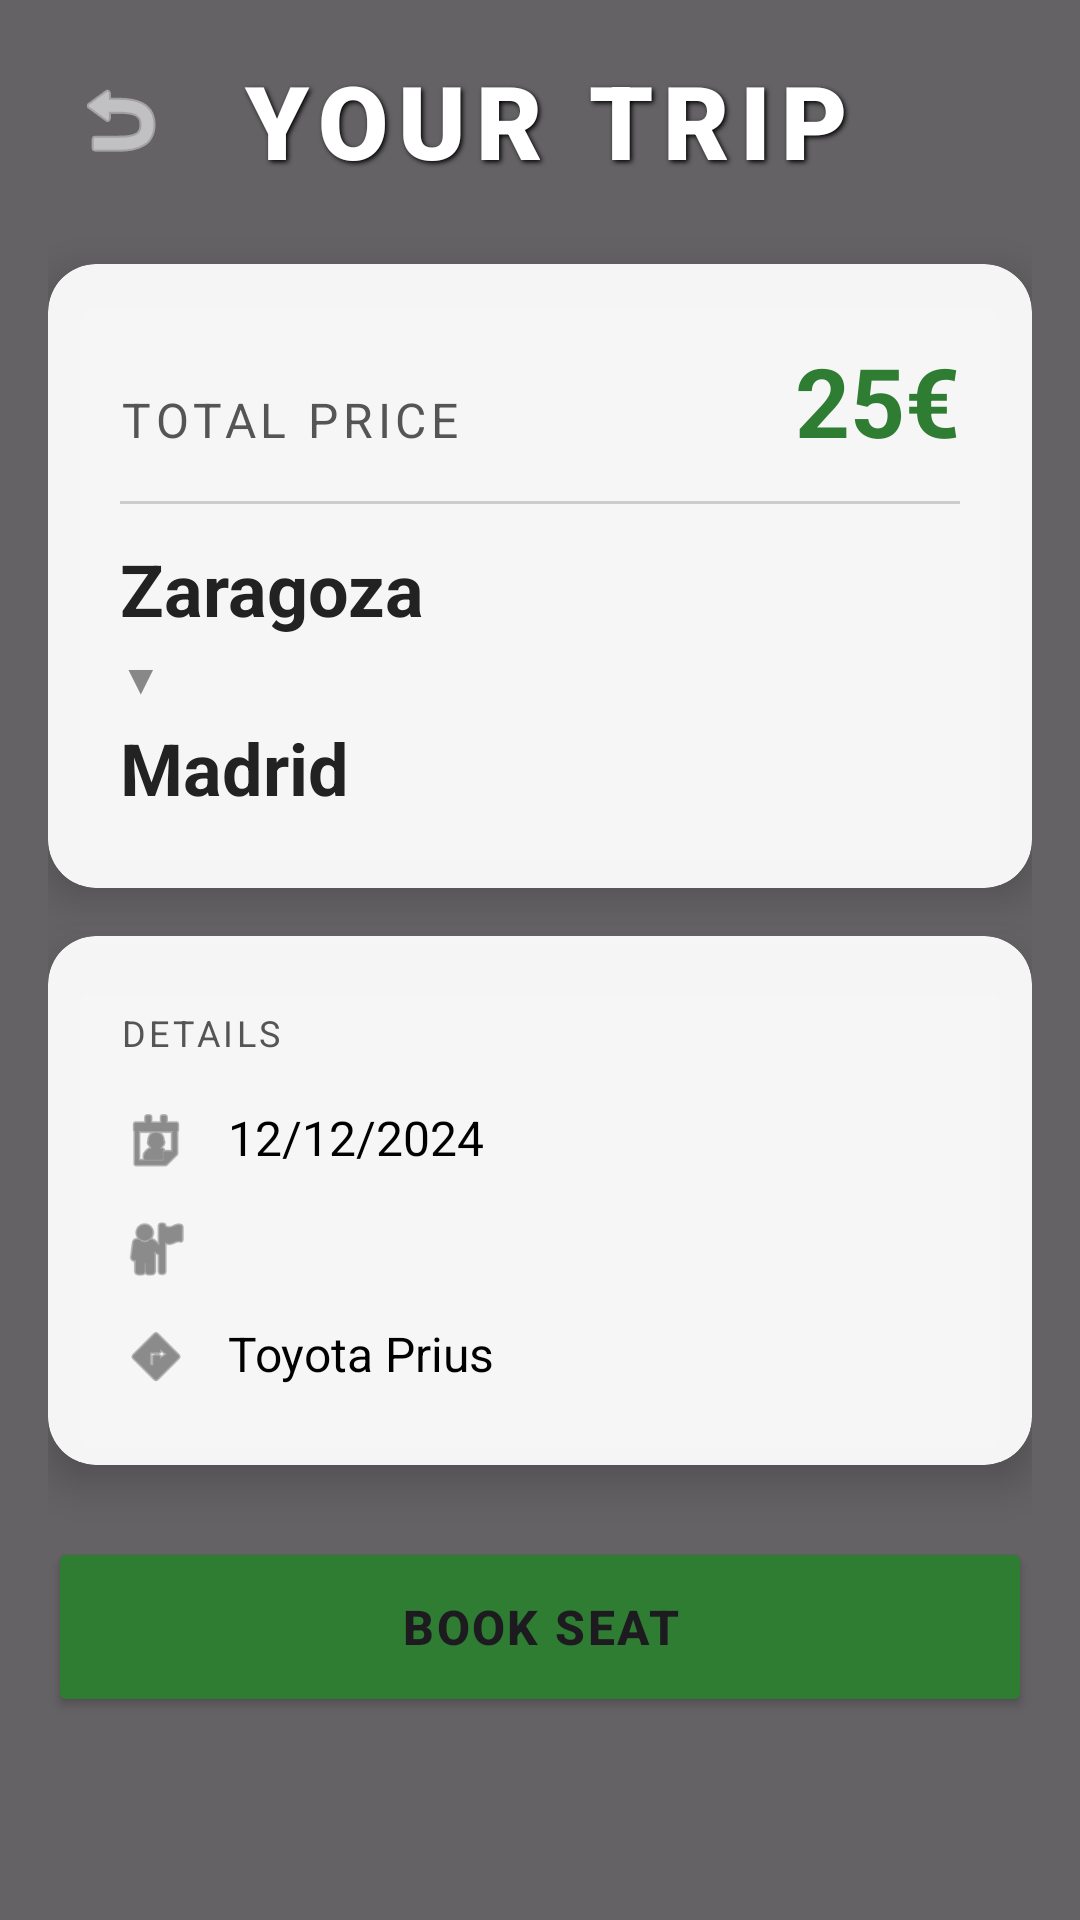

Locate icon controls on the screen. Image size 1080 x 1920, boxes as box(x1, y1, x2, y2).
calendar: box(133, 1114, 179, 1167)
directions: box(131, 1332, 181, 1381)
myplaces: box(130, 1222, 184, 1276)
revert: box(87, 90, 156, 152)
